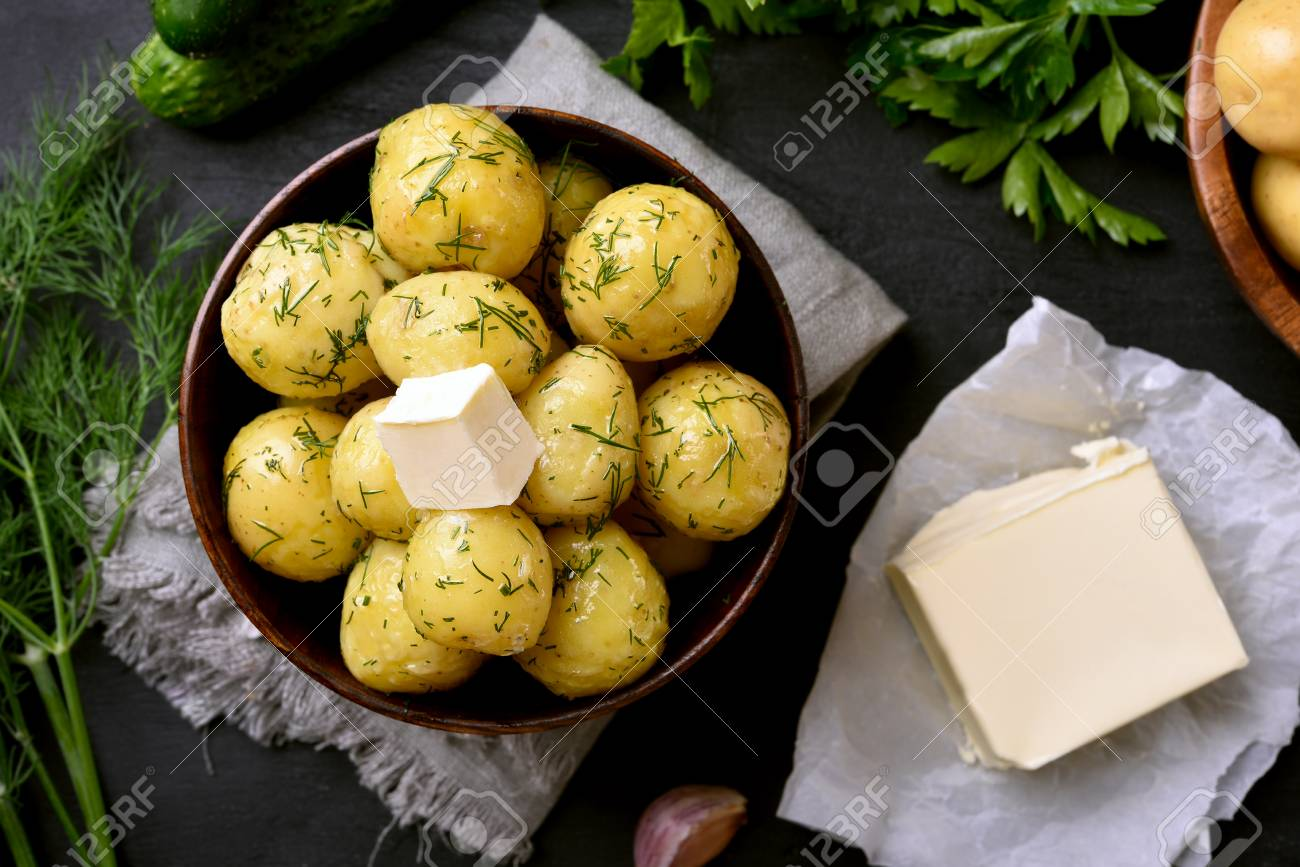boiled potatoes: (216, 224, 389, 398), (568, 181, 729, 353), (368, 102, 536, 266), (217, 411, 373, 579), (526, 519, 661, 696), (372, 276, 546, 391), (646, 370, 775, 522), (406, 515, 554, 646), (519, 355, 632, 511), (339, 550, 464, 683), (330, 397, 431, 547)
